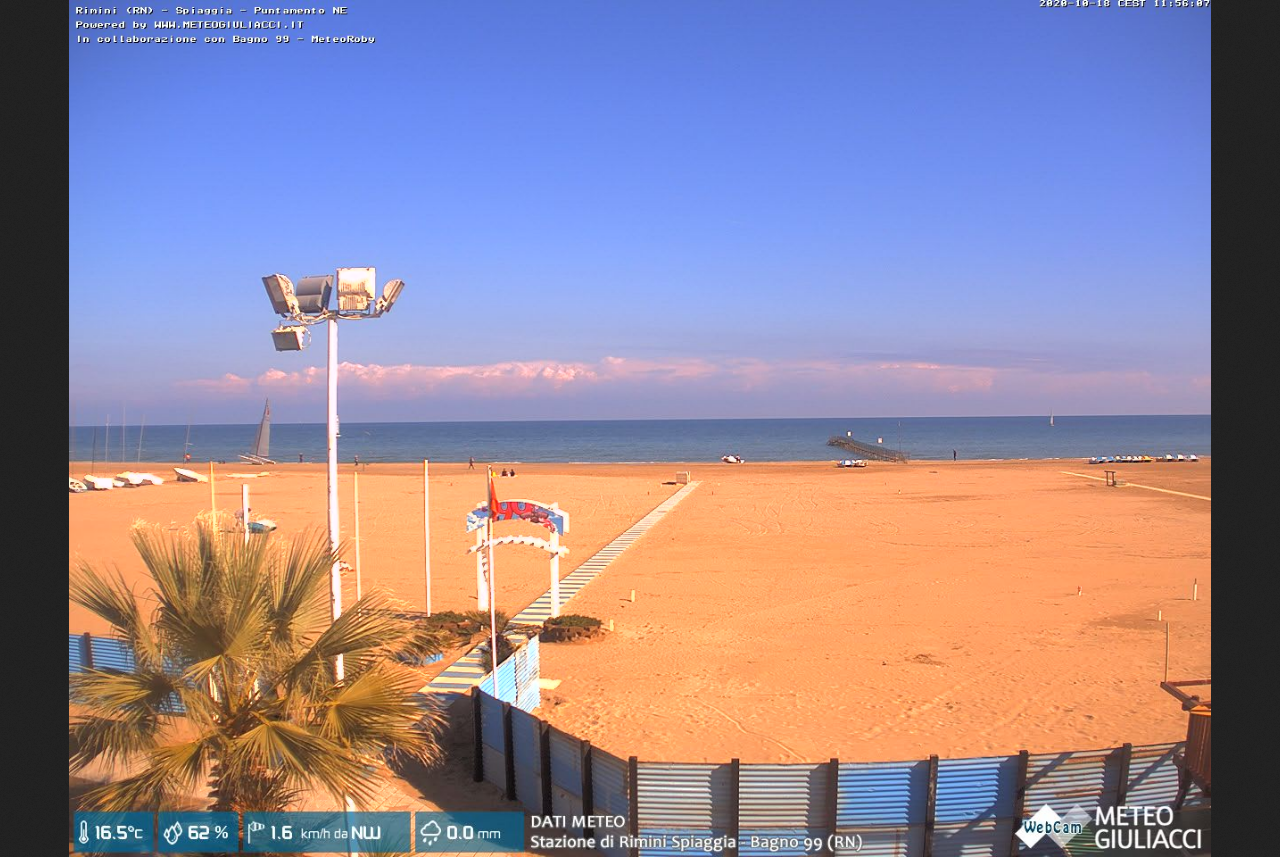no: (486, 469, 501, 520)
